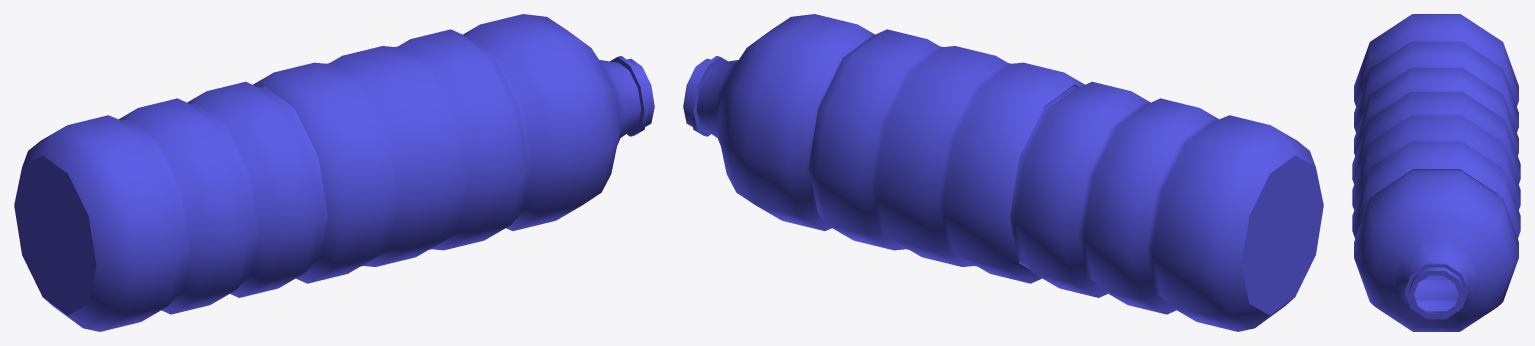
Rendered from waterbottle.fbx.
3 views of the same model, side by side, from view 1: azimuth 30°, elevation 25°; view 2: azimuth 150°, elevation 25°; view 3: azimuth 270°, elevation 25° (orthographic). The views are drawn at different scales.
Visible parts, largest first — view 1: waterbottle; view 2: waterbottle; view 3: waterbottle.
Part boxes in pixels (left/top/right/bottom): waterbottle: left=14, top=14, right=654, bottom=331; waterbottle: left=683, top=14, right=1323, bottom=331; waterbottle: left=1352, top=14, right=1520, bottom=331.
Size of the model in its own units: 15.25 by 4.68 by 4.93.
